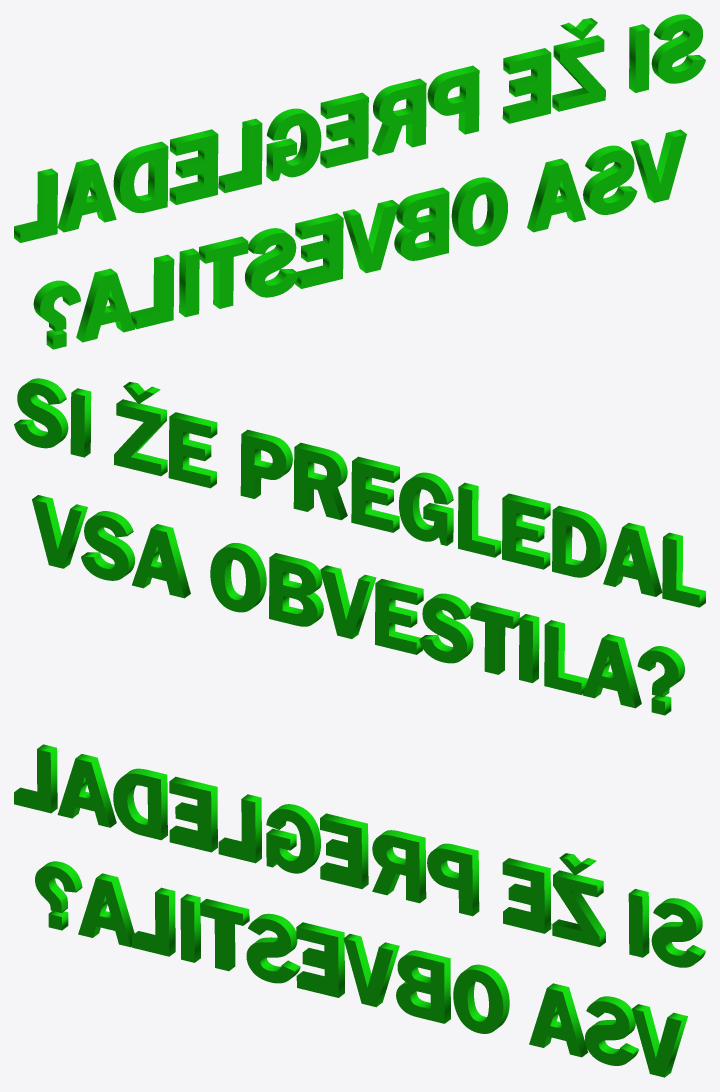
Rendered from DRUZBENAomrezja.obj.
The picture shows the model from 3 angles, top to bottom: view 1: azimuth 30°, elevation 25°; view 2: azimuth 150°, elevation 25°; view 3: azimuth 330°, elevation 25°; orthographic projection.
Parts seen in each view (by area): view 1: Text.001_Text.008; view 2: Text.001_Text.008; view 3: Text.001_Text.008.
Boxes of the visible parts, <box> form: Text.001_Text.008: <box>14,14,705,349</box>; Text.001_Text.008: <box>14,378,705,715</box>; Text.001_Text.008: <box>14,744,705,1077</box>.
Size of the model in its own units: 11.76 by 3.23 by 0.2355.
